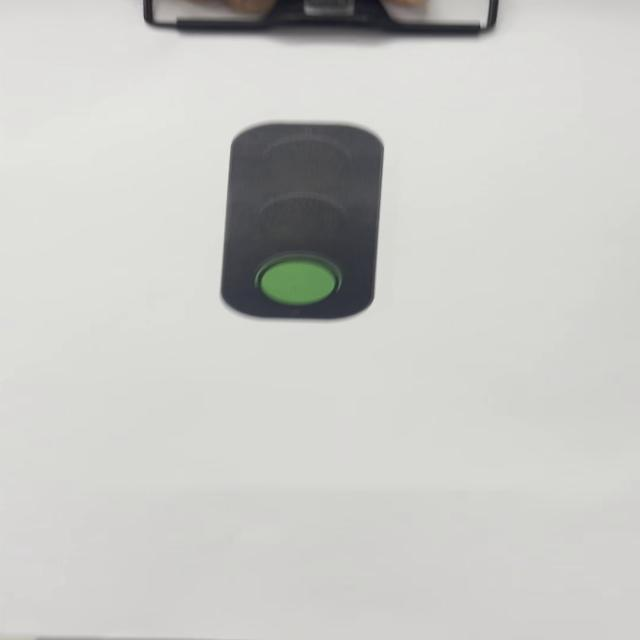green: (223, 122, 388, 326)
